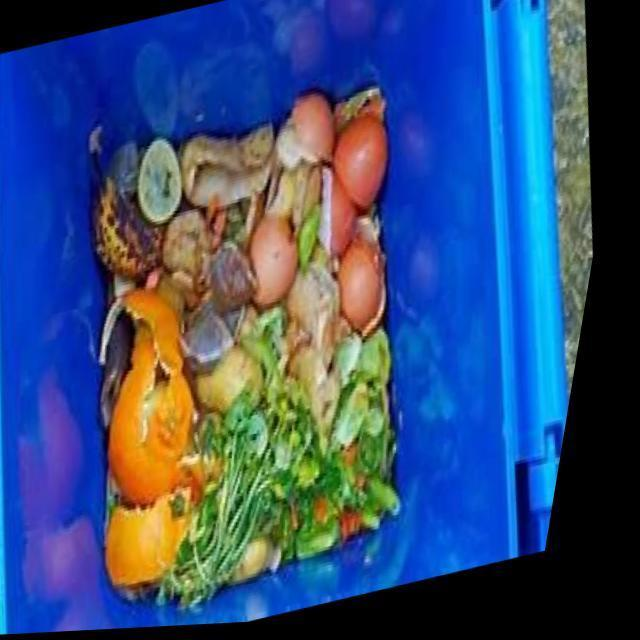Garbage: (91, 81, 422, 613)
